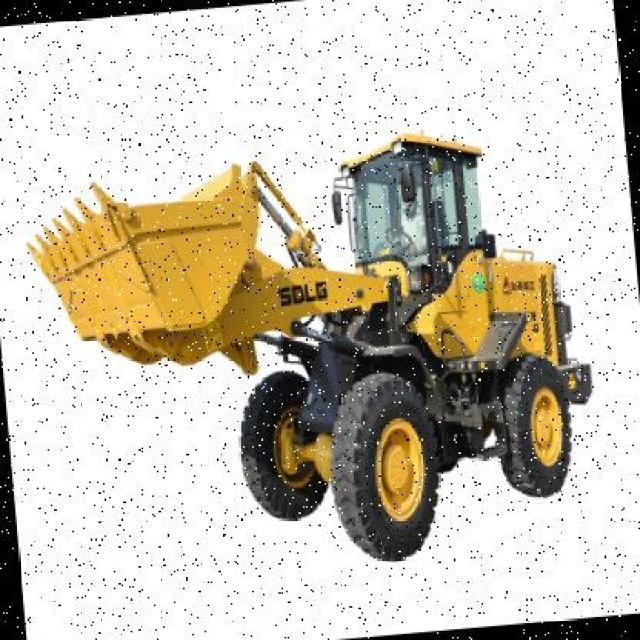buldozerpayloadergrader: (12, 85, 618, 597)
